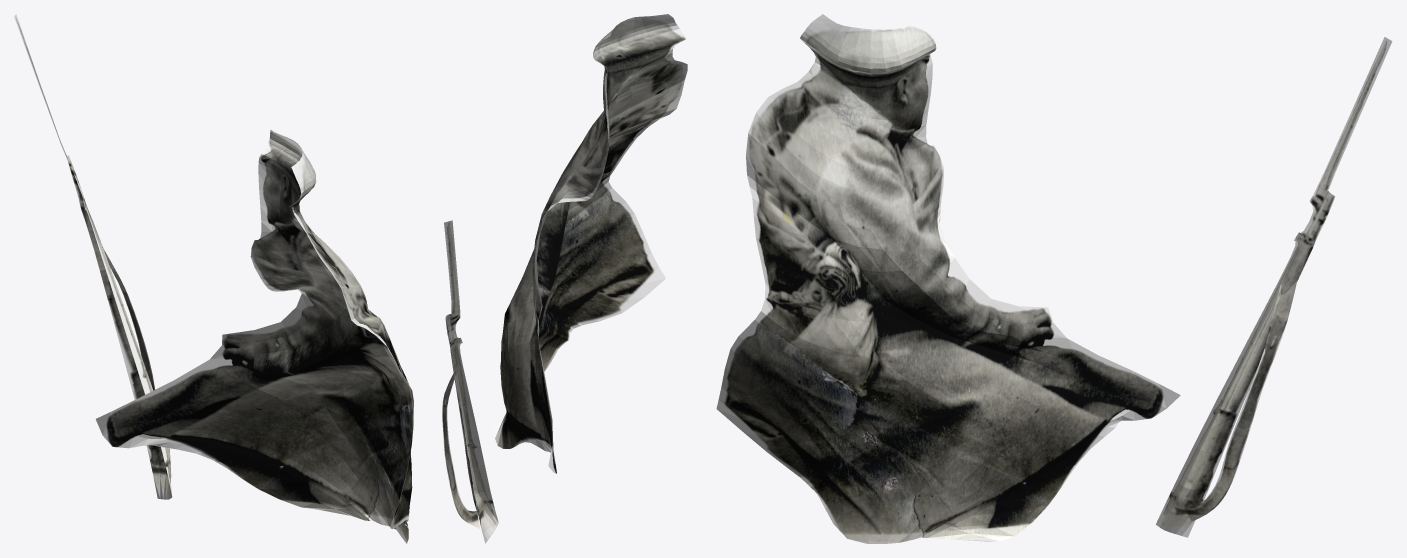
The model's file is Man_06.fbx.
3 views of the same model, side by side, from view 1: azimuth 30°, elevation 25°; view 2: azimuth 150°, elevation 25°; view 3: azimuth 270°, elevation 25° (orthographic). The views are drawn at different scales.
Visible parts, largest first — view 1: Man_06; view 2: Man_06; view 3: Man_06.
Boxes of the visible parts, left/top/right/bottom form: Man_06: left=14, top=14, right=413, bottom=543; Man_06: left=442, top=14, right=687, bottom=543; Man_06: left=716, top=14, right=1392, bottom=543.
Size of the model in its own units: 0.726 by 1.91 by 2.31.
1 material, 1 textured.
